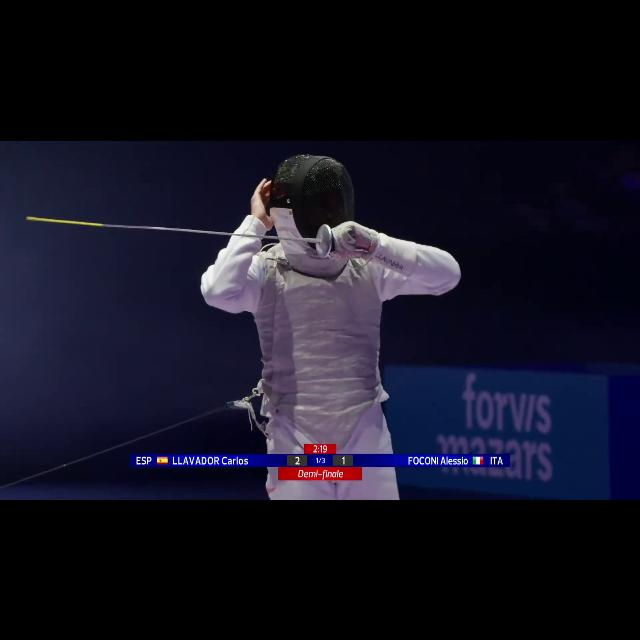blade: (22, 204, 348, 270)
